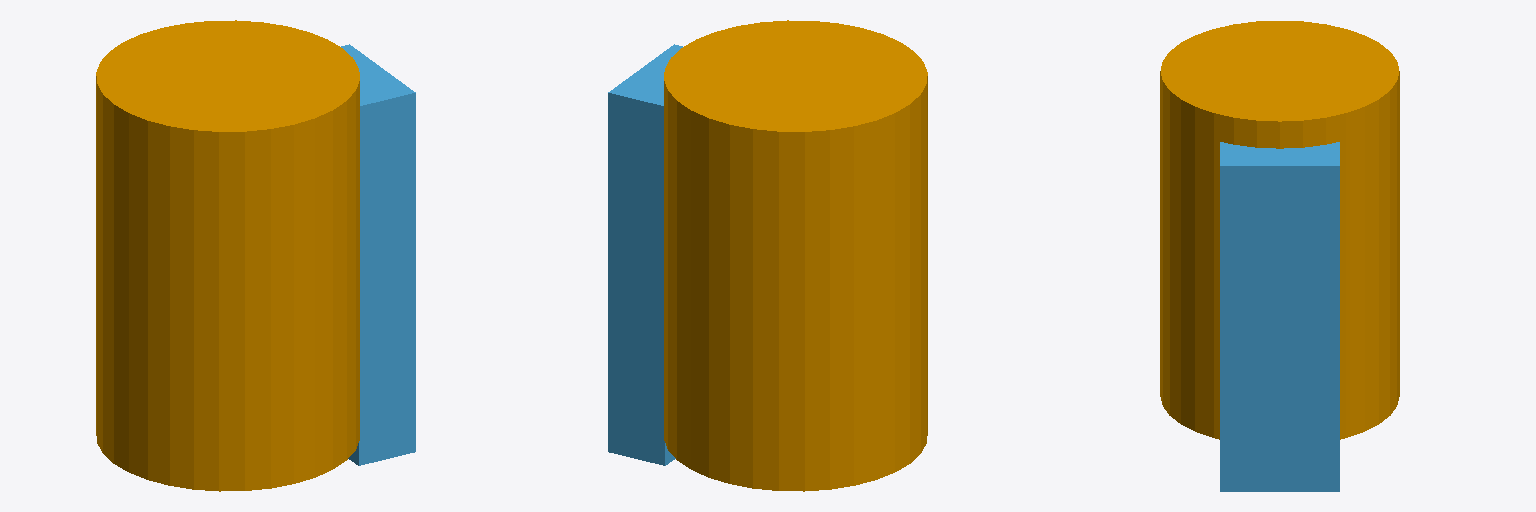
URDF robot description (my_robot3):
<?xml version="1.0"?>
<robot name="my_robot3">
  <link name="base_link">
    <visual>
      <geometry>
        <cylinder length="0.6" radius="0.2"/>
      </geometry>
    </visual>
  </link>
  <link name="right_leg">
    <visual>
      <geometry>
        <box size="0.6 .2 .1"/>
      </geometry>
      <origin rpy="0 1.57075 0" xyz="0 0 -0.3"/>
    </visual>
  </link>
  <joint name="base_to_right_leg" type="fixed">
    <parent link="base_link"/>
    <child link="right_leg"/>
    <origin xyz="0.22 0 .25"/>
  </joint>
</robot>

--- Render facts (derived) ---
3 views of the same robot in one strip: view 1: azimuth 30°, elevation 25°; view 2: azimuth 150°, elevation 25°; view 3: azimuth 270°, elevation 25° (orthographic).
Robot: my_robot3 — 2 links, 1 joints (1 fixed); root link base_link; default pose: every joint at zero.
Visible links, largest first — view 1: base_link, right_leg; view 2: base_link, right_leg; view 3: base_link, right_leg.
Boxes of the visible links, x1,y1,x2,y2 form: base_link: (96, 20, 359, 491); right_leg: (341, 44, 415, 465); base_link: (664, 20, 927, 491); right_leg: (608, 44, 682, 465); base_link: (1160, 21, 1399, 439); right_leg: (1220, 142, 1339, 491).
Size in the robot's own frame: 0.47 by 0.4 by 0.65 metres.
Geometry: primitives only (box / cylinder / sphere), no mesh files.